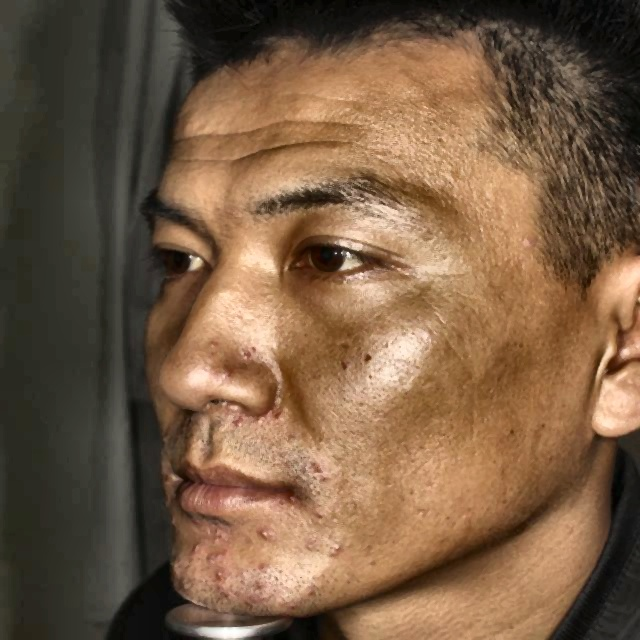pustule: (208, 566, 230, 598), (256, 557, 276, 580), (314, 461, 333, 485), (257, 524, 278, 542), (325, 539, 345, 557), (213, 546, 231, 561), (254, 583, 265, 604), (191, 540, 201, 556), (207, 529, 222, 539)
